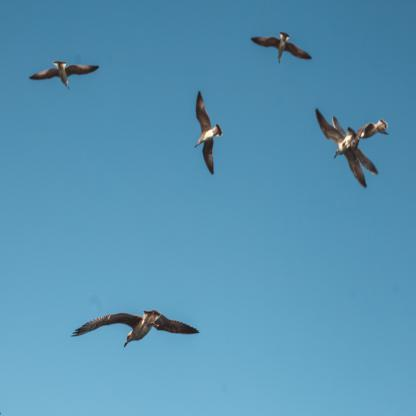bird: (71, 309, 201, 348), (317, 109, 365, 188), (196, 89, 223, 176), (29, 60, 100, 90), (252, 30, 312, 64), (351, 118, 389, 153)
